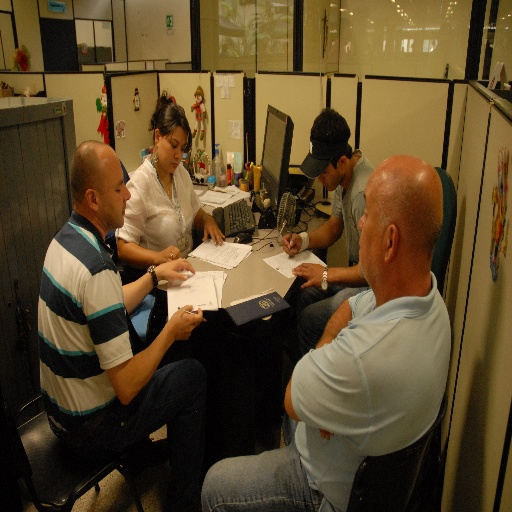hand: (161, 311, 203, 359), (157, 256, 196, 284), (291, 262, 323, 292), (201, 213, 226, 245), (280, 231, 302, 258), (156, 244, 181, 264), (319, 429, 334, 442)
